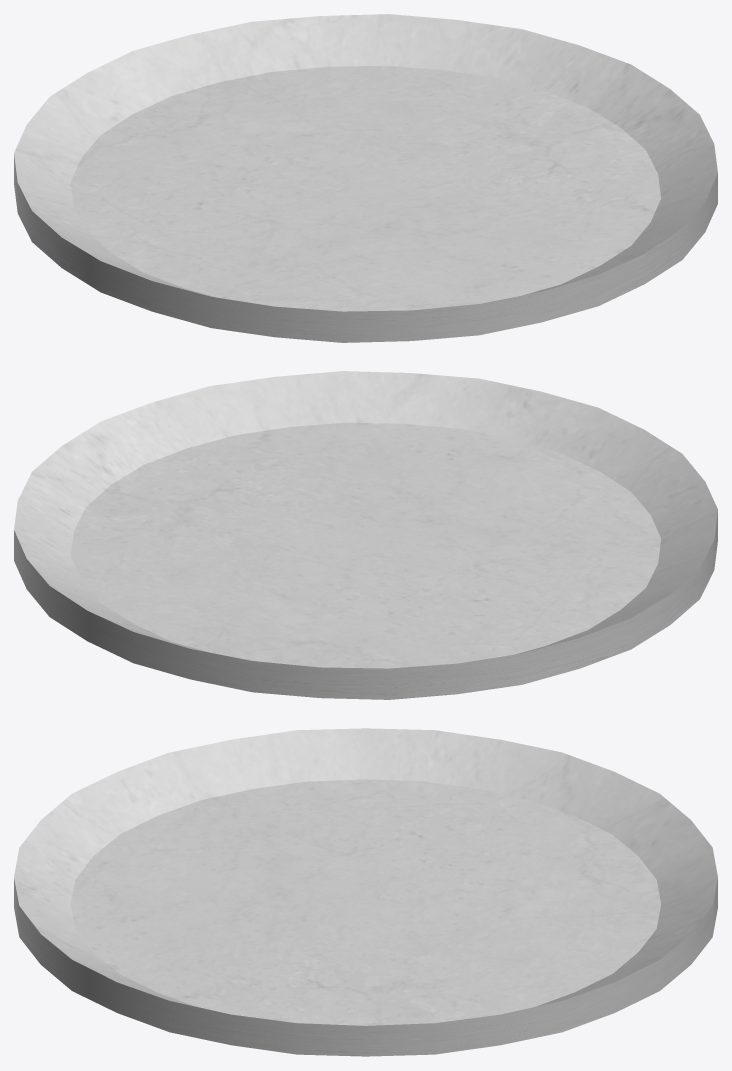
The model's file is Plato.fbx.
The picture shows the model from 3 angles, top to bottom: view 1: azimuth 30°, elevation 25°; view 2: azimuth 150°, elevation 25°; view 3: azimuth 270°, elevation 25°; orthographic projection.
Visible parts, largest first — view 1: Cylinder; view 2: Cylinder; view 3: Cylinder.
Boxes of the visible parts, x1,y1,x2,y2 form: Cylinder: [14, 14, 717, 342]; Cylinder: [14, 371, 717, 699]; Cylinder: [14, 728, 717, 1056].
Size of the model in its own units: 115 by 5.68 by 115.
Materials: 1 (1 with a texture image).
